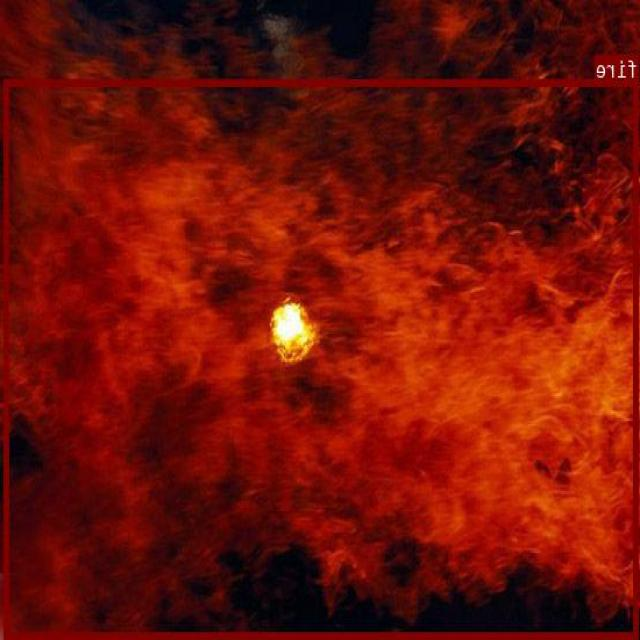fire: (6, 78, 640, 637)
